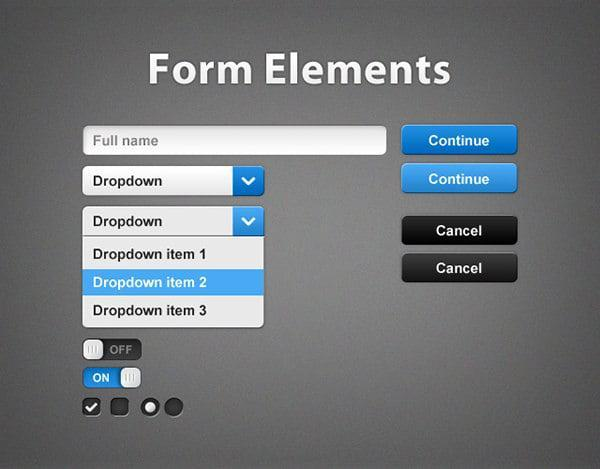button: (402, 252, 521, 284), (400, 216, 521, 247), (401, 125, 518, 156), (401, 164, 519, 194)
checkbox: (111, 397, 132, 418), (82, 398, 103, 417)
dropdown: (84, 167, 266, 197), (84, 207, 265, 236)
input: (84, 127, 388, 157)
label: (147, 50, 454, 88), (83, 269, 264, 297)
radio: (165, 397, 186, 419), (142, 398, 160, 420)
switch: (84, 338, 142, 362), (84, 367, 142, 391)
